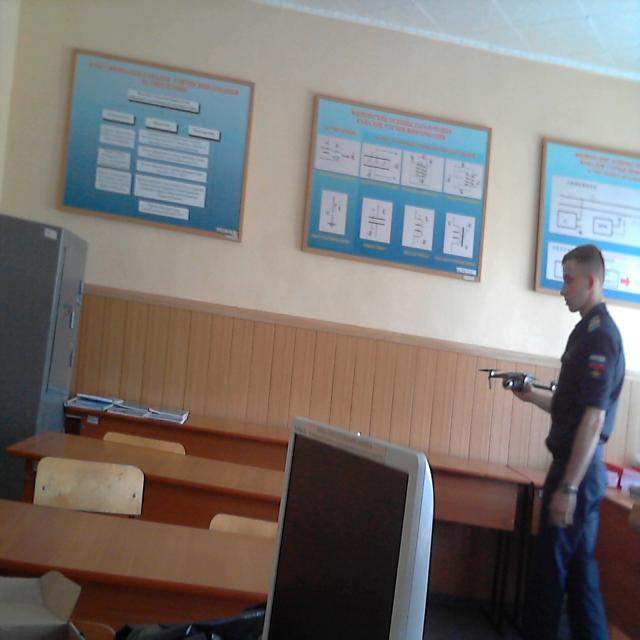drone: (475, 349, 571, 412)
